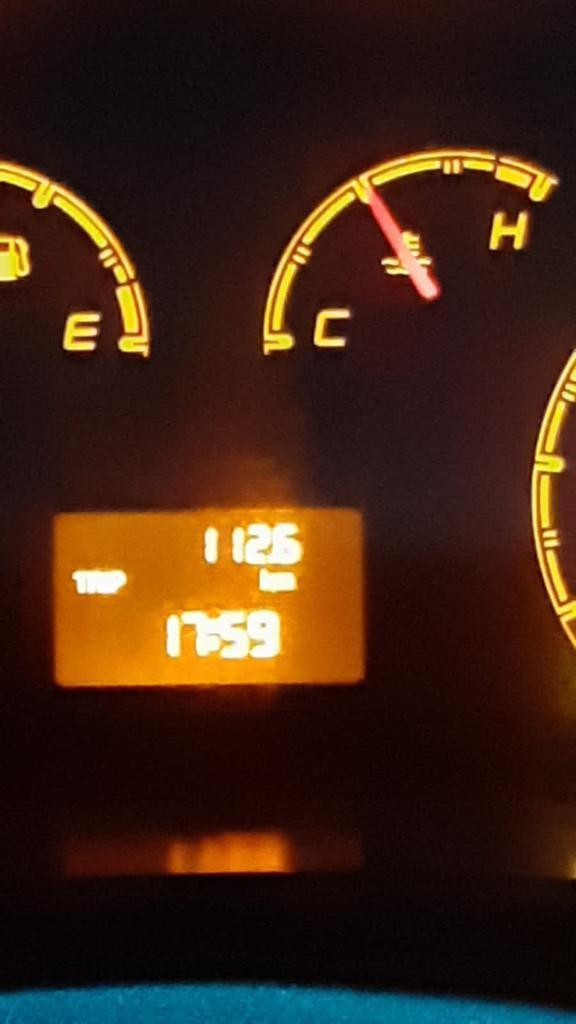,: (265, 555, 273, 566)
1: (160, 609, 179, 660), (225, 523, 245, 564), (201, 524, 220, 566)
2: (244, 522, 269, 566)
5: (218, 607, 248, 662)
6: (271, 520, 304, 566)
7: (180, 606, 208, 661)
9: (248, 606, 283, 661)
X: (272, 568, 298, 593), (69, 567, 88, 595), (256, 564, 273, 594), (111, 565, 127, 594), (88, 567, 103, 594), (208, 616, 218, 652), (102, 569, 111, 595)
odometer: (44, 499, 373, 695)
